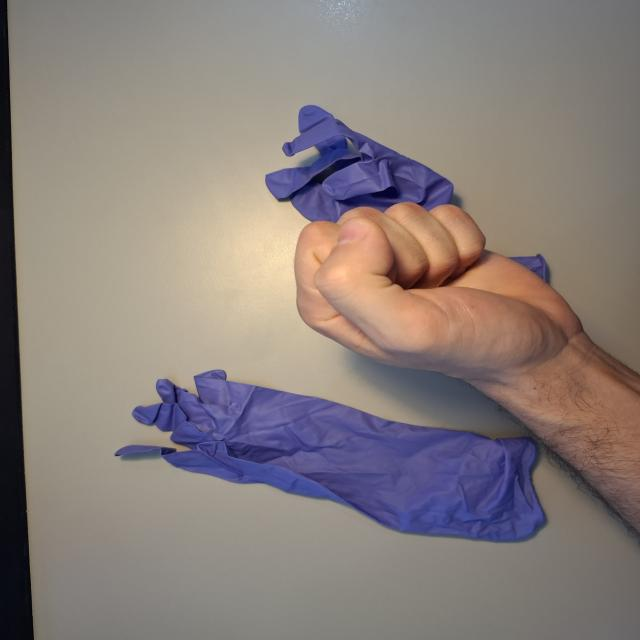glove_off: (287, 197, 593, 391)
